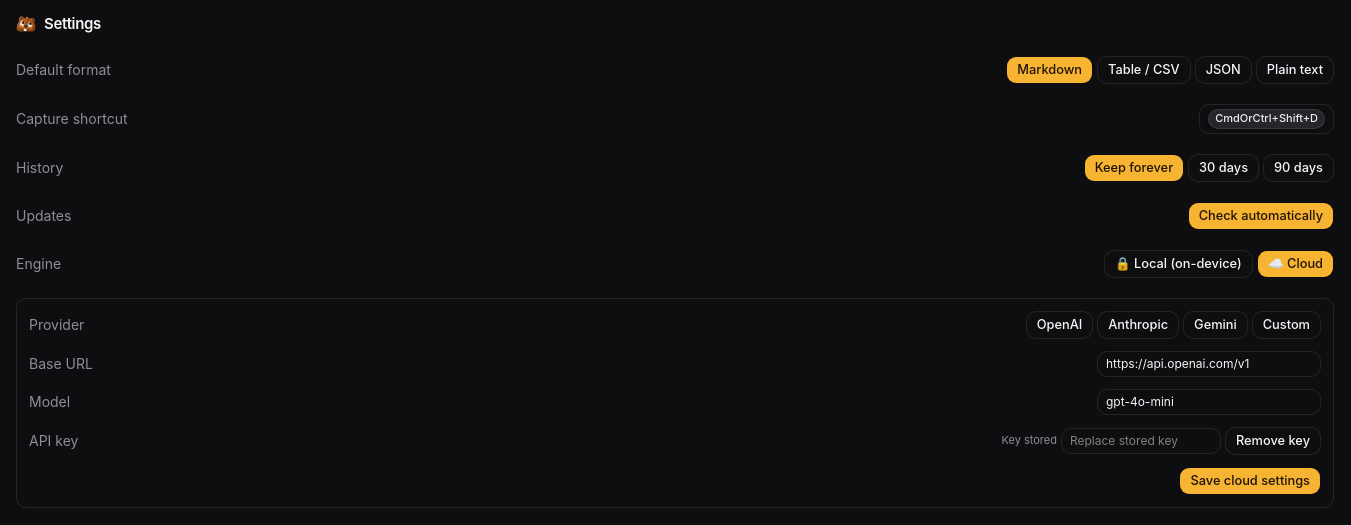
SettingsPanel › removing a stored key clears the stored-key indicator
Expected: the text "Key stored" is shown, [1002,432,1057,449]
What coordinates should you click on to do the following:
click the button "Remove key"
I would click on:
 (1273, 440)
Its box is [1225,426,1321,454].
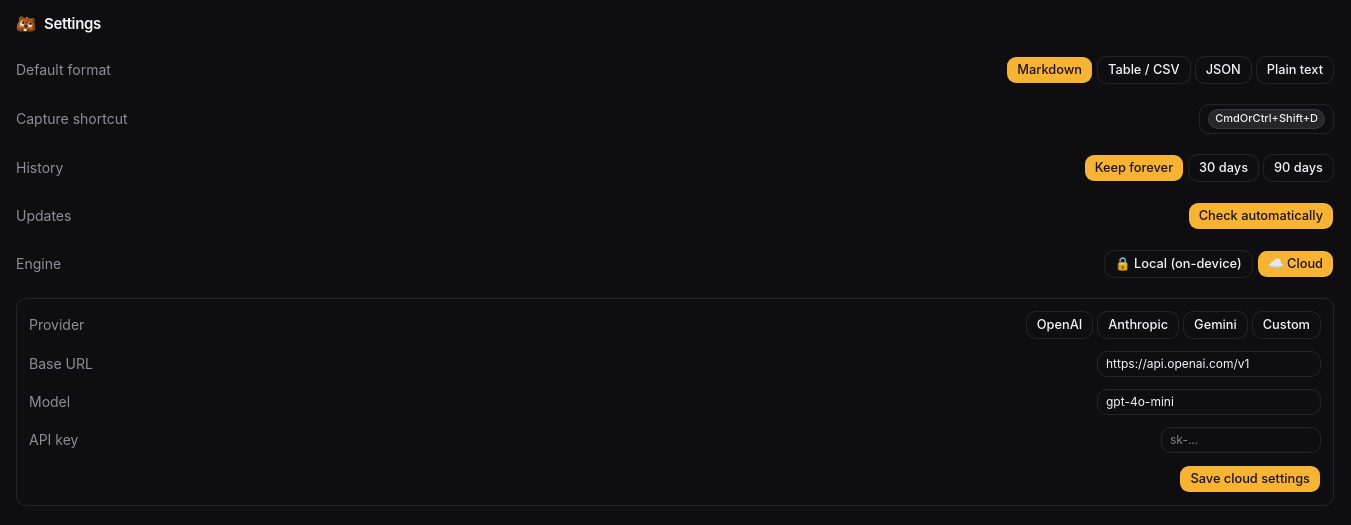
Expected: the field named "Base URL" is shown, [1097,350,1321,376]
Now the text "Key stored" is gone
